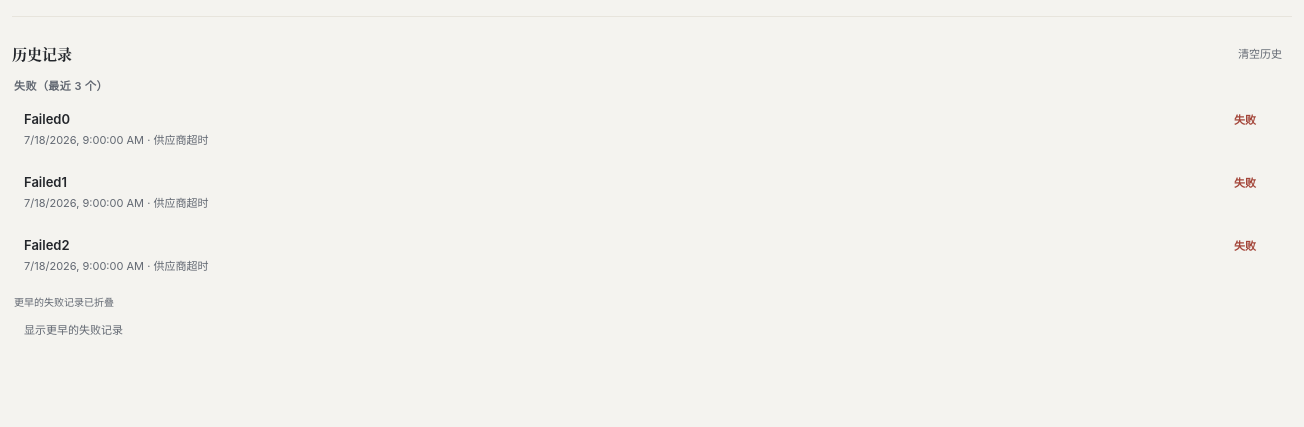
Test: RunHistory › makes older failures reachable after expanding the initial cap
Click the button "显示更早的失败记录" at (74, 331), box [14,320,133,341]
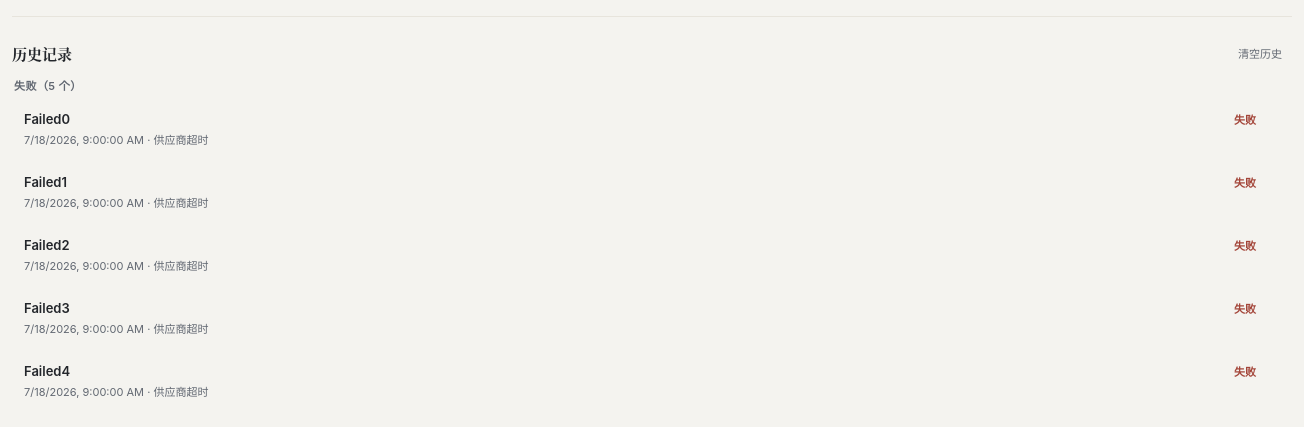
Expected: the button with aria-label "打开 Failed4 的研究记录" is shown, [13,353,1291,410]
